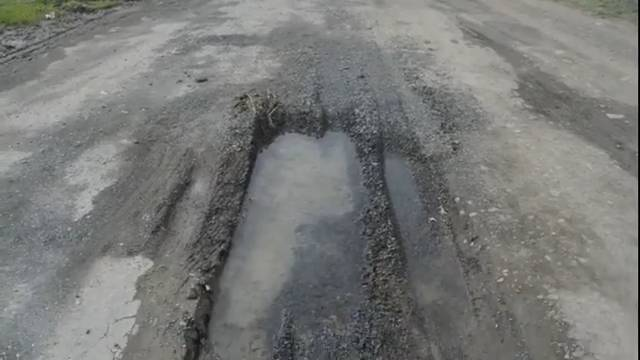pothole: (418, 50, 640, 360)
